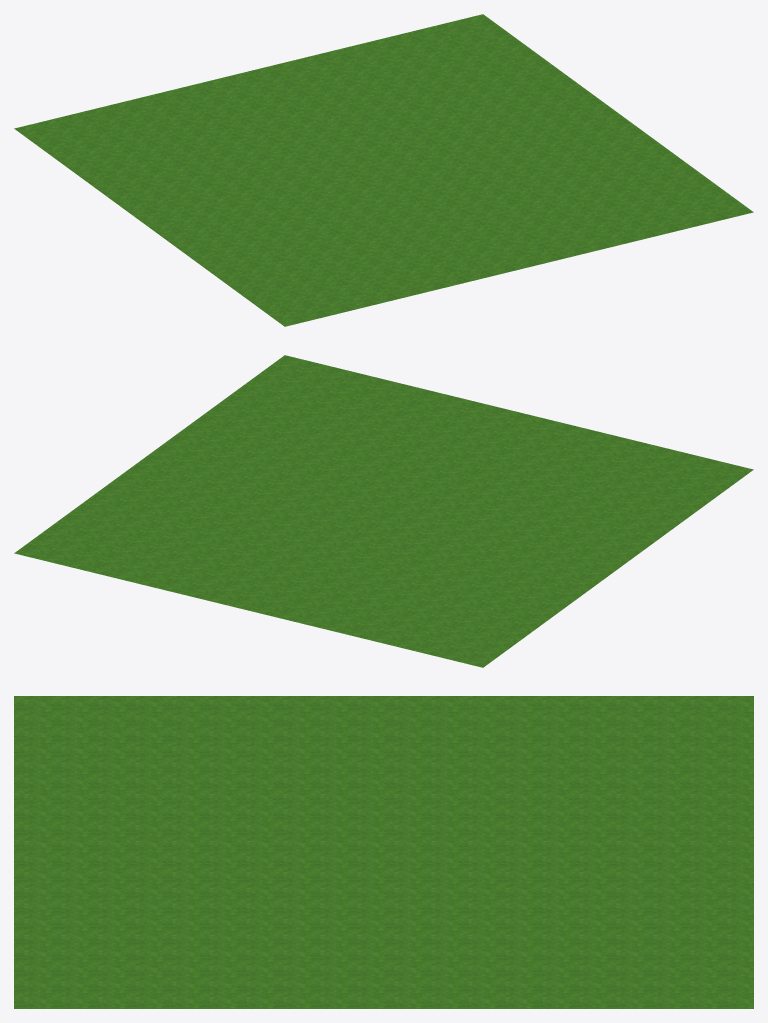
The model's file is ground.glb.
3 renders of one model, top to bottom at view 1: azimuth 30°, elevation 25°; view 2: azimuth 150°, elevation 25°; view 3: azimuth 270°, elevation 25°, orthographic. The views are drawn at different scales.
Visible parts, largest first — view 1: ground; view 2: ground; view 3: ground.
Part boxes in pixels (box(x1,y1,x2,y2)): ground: box(14, 14, 753, 326); ground: box(14, 355, 753, 667); ground: box(14, 696, 753, 1008).
Size of the model in its own units: 100 by 2.22e-16 by 100.
Materials: 1 (1 with a texture image).
